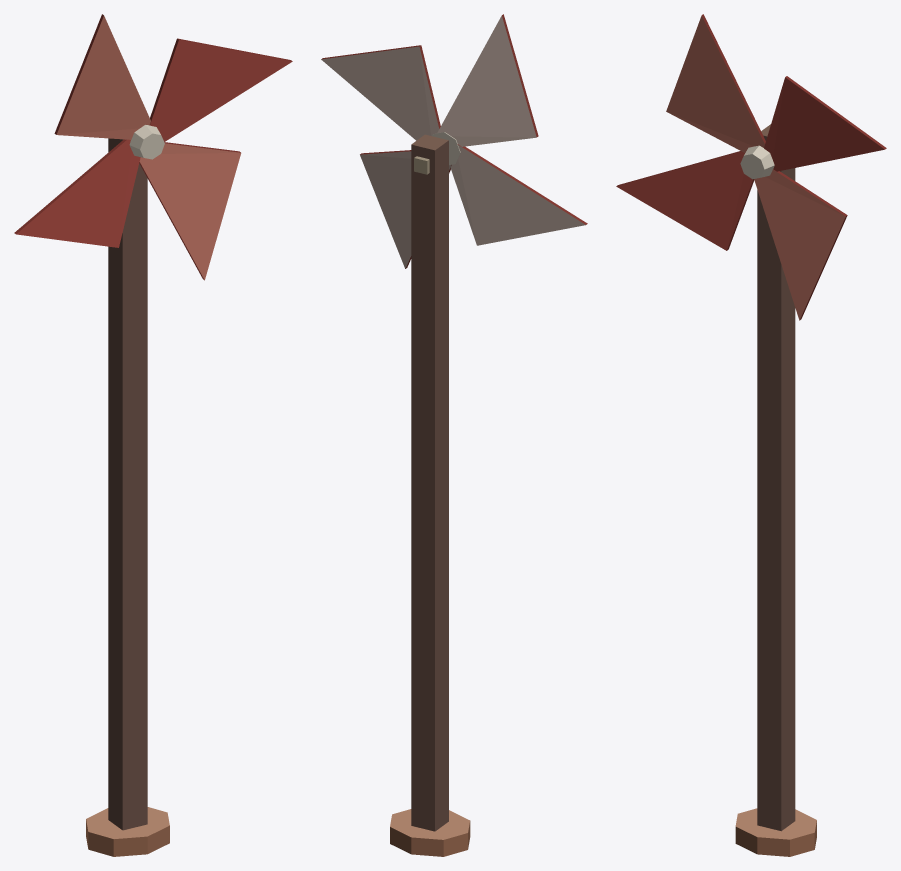
File: pinwheel_red.fbx
The picture shows the model from 3 angles, left to right: view 1: azimuth 30°, elevation 25°; view 2: azimuth 150°, elevation 25°; view 3: azimuth 330°, elevation 25°; orthographic projection. The views are drawn at different scales.
Visible parts, largest first — view 1: pinwheel_blades, pinwheel_red; view 2: pinwheel_red, pinwheel_blades; view 3: pinwheel_blades, pinwheel_red.
Boxes of the visible parts, x1=… form: pinwheel_blades: x1=14, y1=14, x2=292, y2=280; pinwheel_red: x1=86, y1=138, x2=169, y2=856; pinwheel_red: x1=390, y1=134, x2=470, y2=856; pinwheel_blades: x1=321, y1=14, x2=587, y2=268; pinwheel_blades: x1=616, y1=14, x2=886, y2=320; pinwheel_red: x1=735, y1=124, x2=816, y2=856.
Size of the model in its own units: 0.4886 by 1.44 by 0.141.
